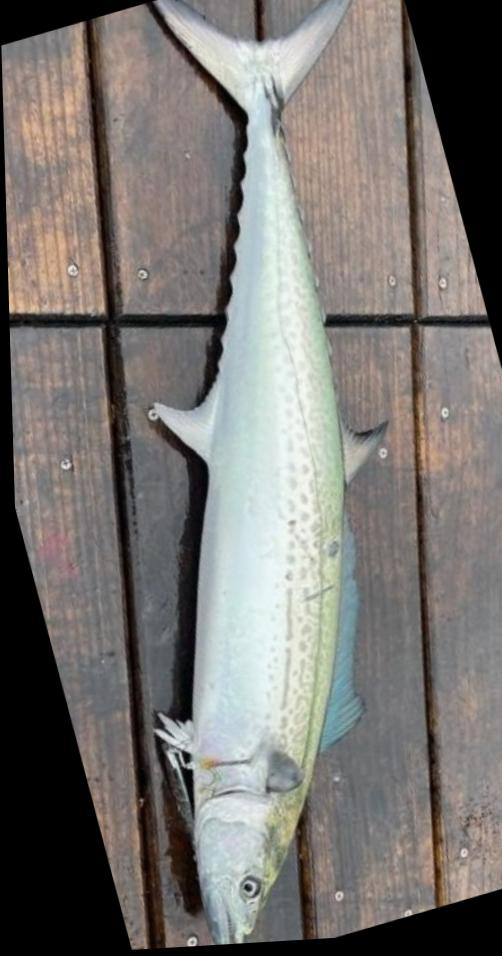fish: (149, 0, 382, 947)
